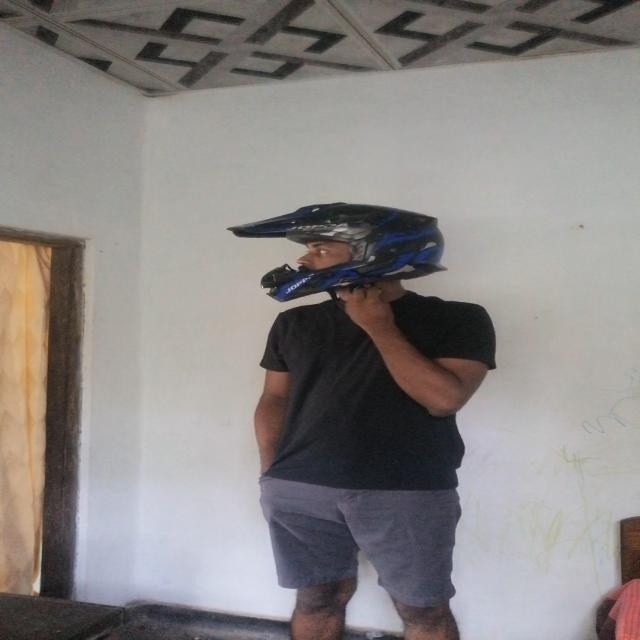Helmet_Wearer: (210, 194, 452, 324)
Person: (261, 201, 493, 640)
